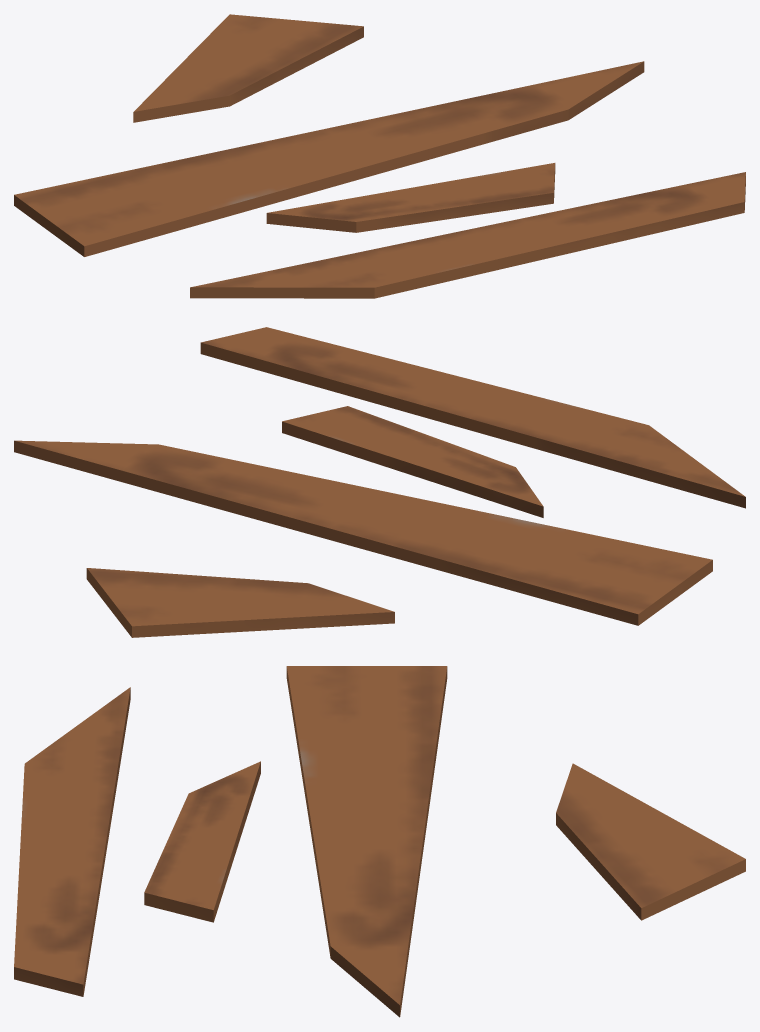
File: planches2.FBX
3 renders of one model, top to bottom at view 1: azimuth 30°, elevation 25°; view 2: azimuth 150°, elevation 25°; view 3: azimuth 270°, elevation 25°, orthographic. The views are drawn at different scales.
Parts seen in each view (by area): view 1: Box005, Box006, Box008, Box007; view 2: Box005, Box006, Box008, Box007; view 3: Box005, Box006, Box008, Box007.
Boxes of the visible parts, x1,y1,x2,y2 form: Box005: (14,61,644,256); Box006: (190,172,745,298); Box008: (133,14,363,122); Box007: (266,163,555,232); Box005: (14,440,712,625); Box006: (200,327,745,508); Box008: (86,568,394,637); Box007: (282,406,543,517); Box005: (286,666,447,1017); Box006: (14,687,130,996); Box008: (556,763,745,920); Box007: (144,761,260,922).
Bounding box in the file's own units: 153 × 2.61 × 139.
4 materials, 4 textured.
